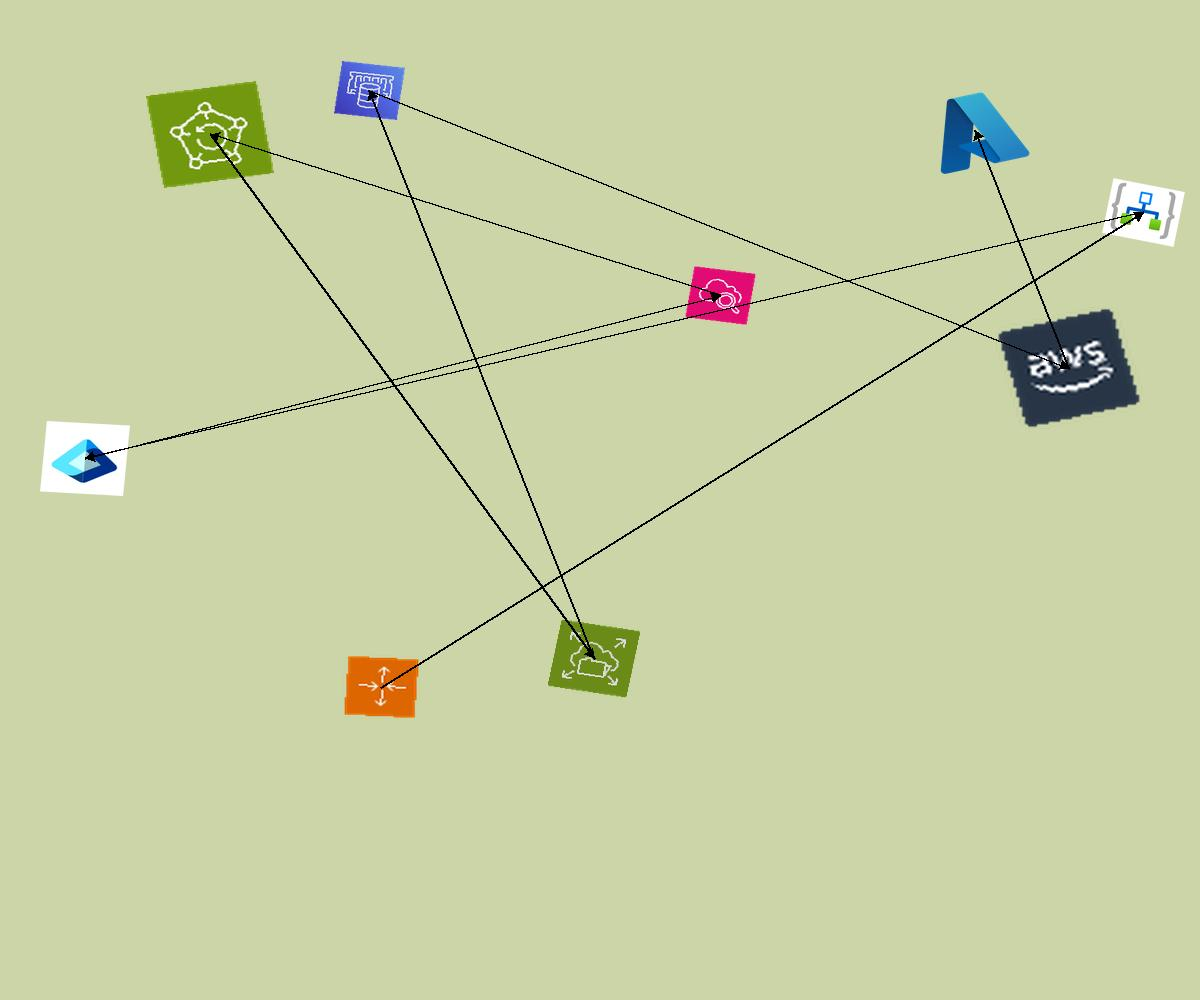AWS-Backup: (146, 81, 274, 188)
AWS-Cloud-logo: (996, 307, 1142, 429)
AWS-CloudWatch: (685, 266, 756, 325)
AWS-EFS: (547, 619, 641, 698)
AWS-ElastiCache: (334, 61, 405, 120)
AWS-Scaling-group: (343, 655, 420, 719)
Azure_integration-204-Logic-Apps: (1102, 178, 1185, 247)
Azure_microsoft_entra: (40, 421, 130, 496)
Azure_services: (915, 80, 1036, 181)
